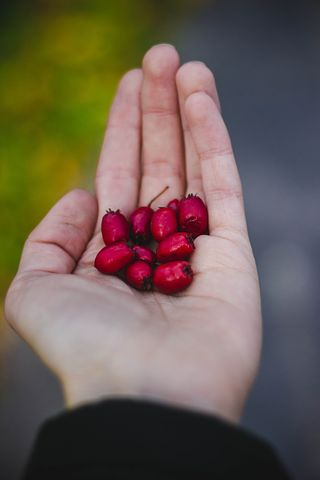palmhand: (11, 42, 265, 392)
